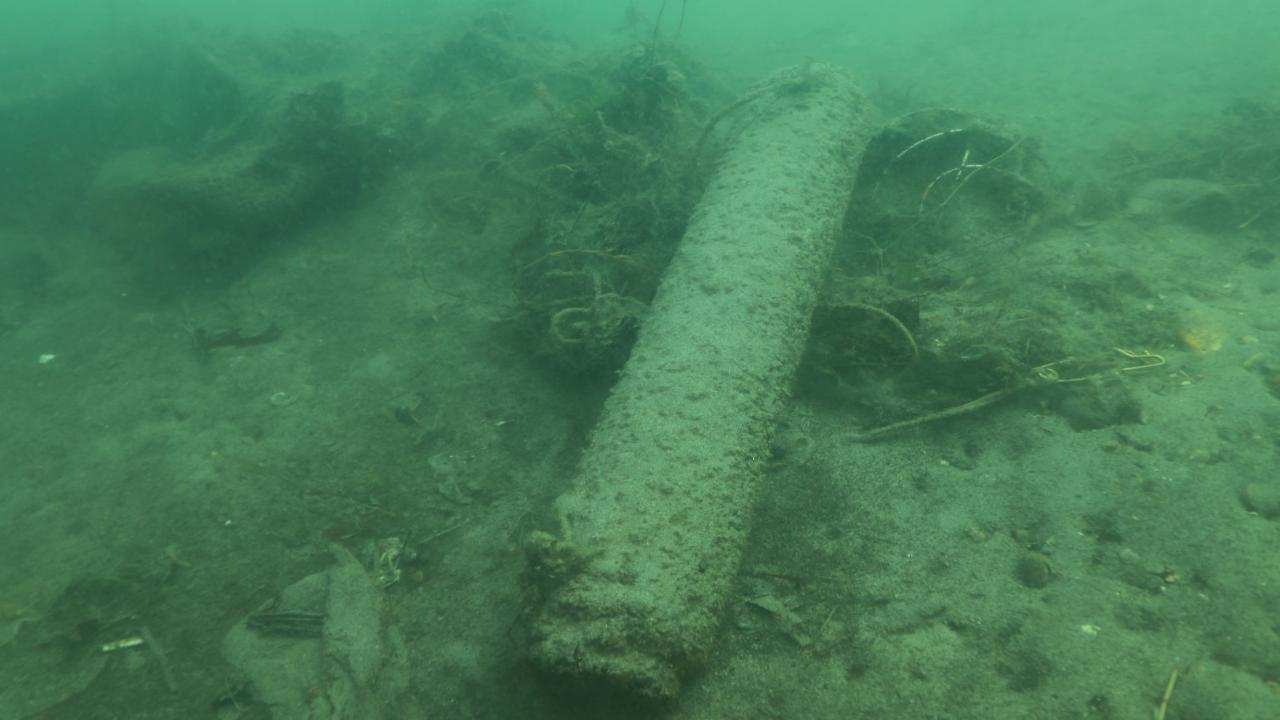eel fish trap: (519, 61, 881, 712)
